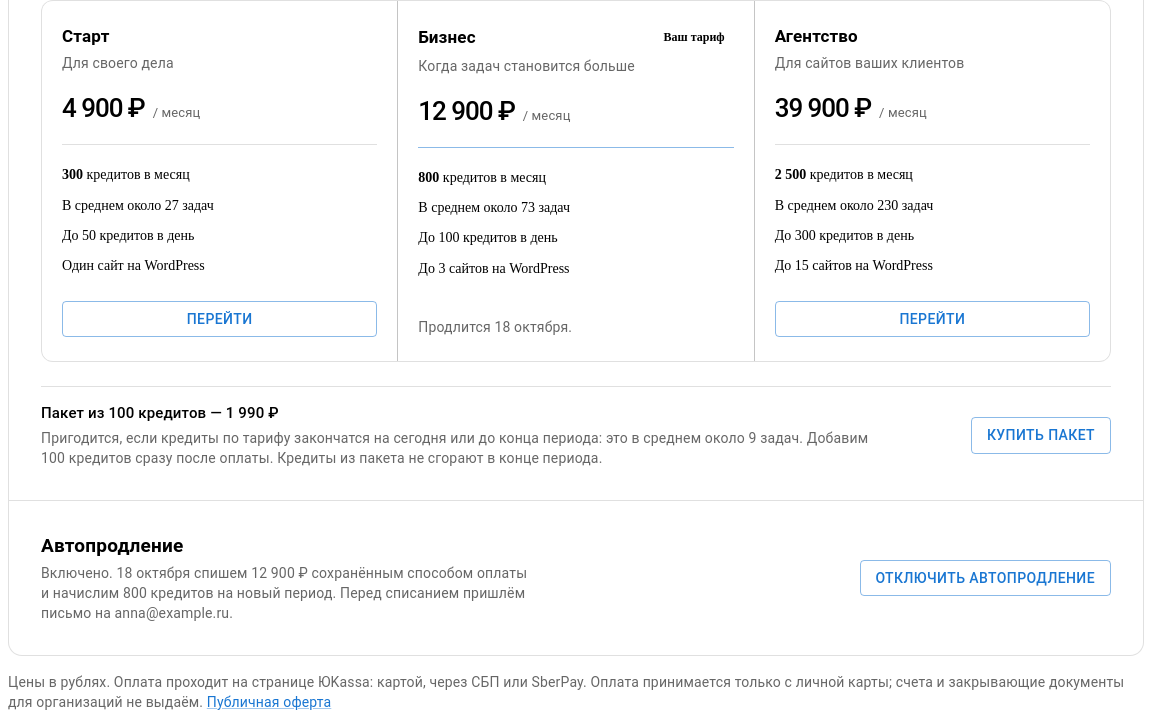
Test: buying a pack of credits › opens the dialog of the pack and returns the focus to the button on close
The width and height of the screenshot is (1152, 720).
(page scrolled)
Click the button "Купить пакет" at (1041, 436), box x1=971 y1=417 x2=1111 y2=454
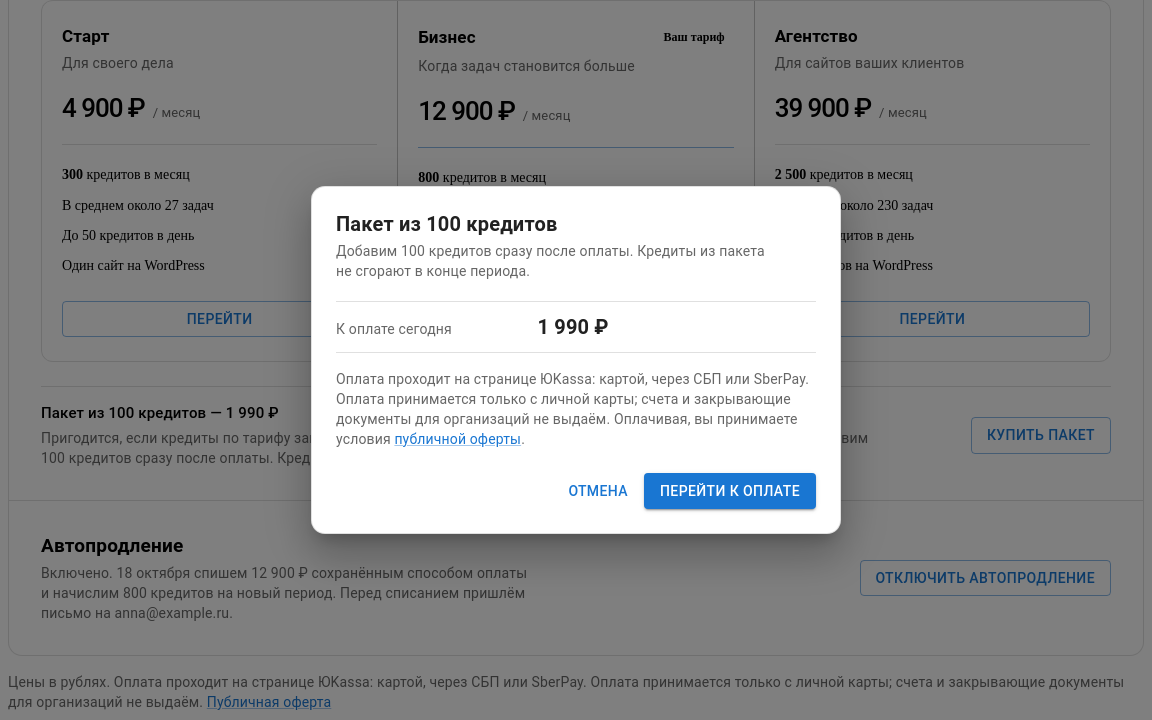
Check: the dialog "Пакет из 100 кредитов" shows "1 990 ₽", box x1=311 y1=186 x2=841 y2=534
Click the button "Отмена" at (598, 491), box x1=560 y1=473 x2=636 y2=509
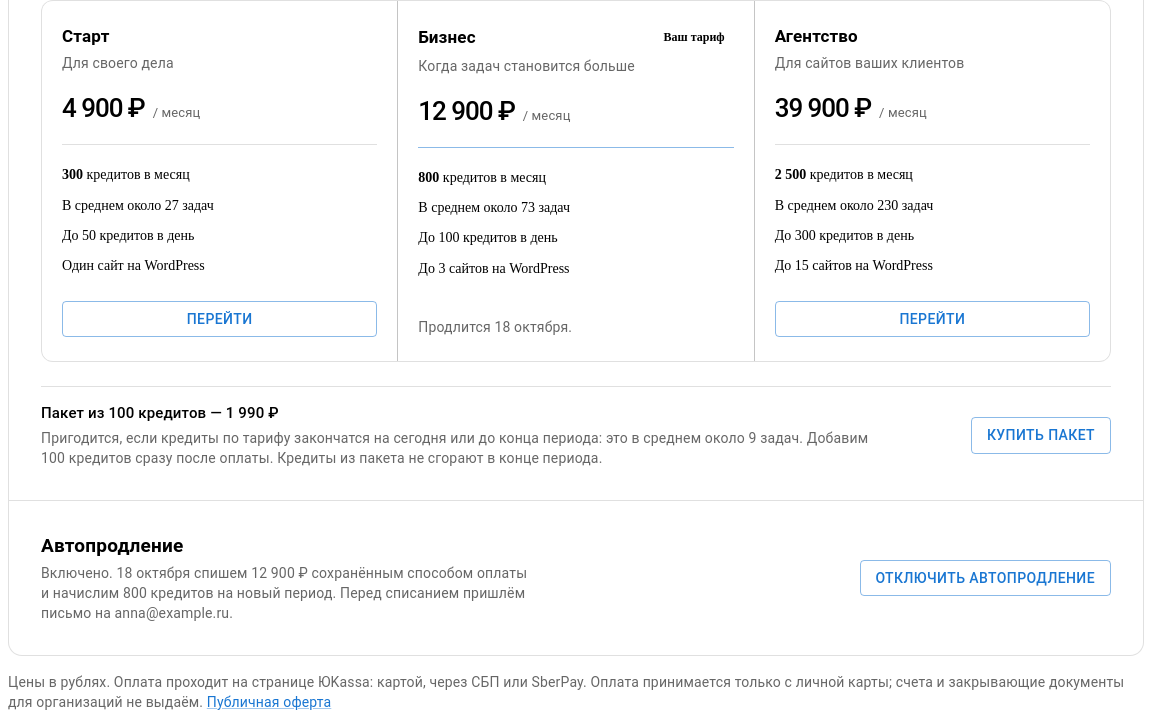
Check: the dialog is gone
